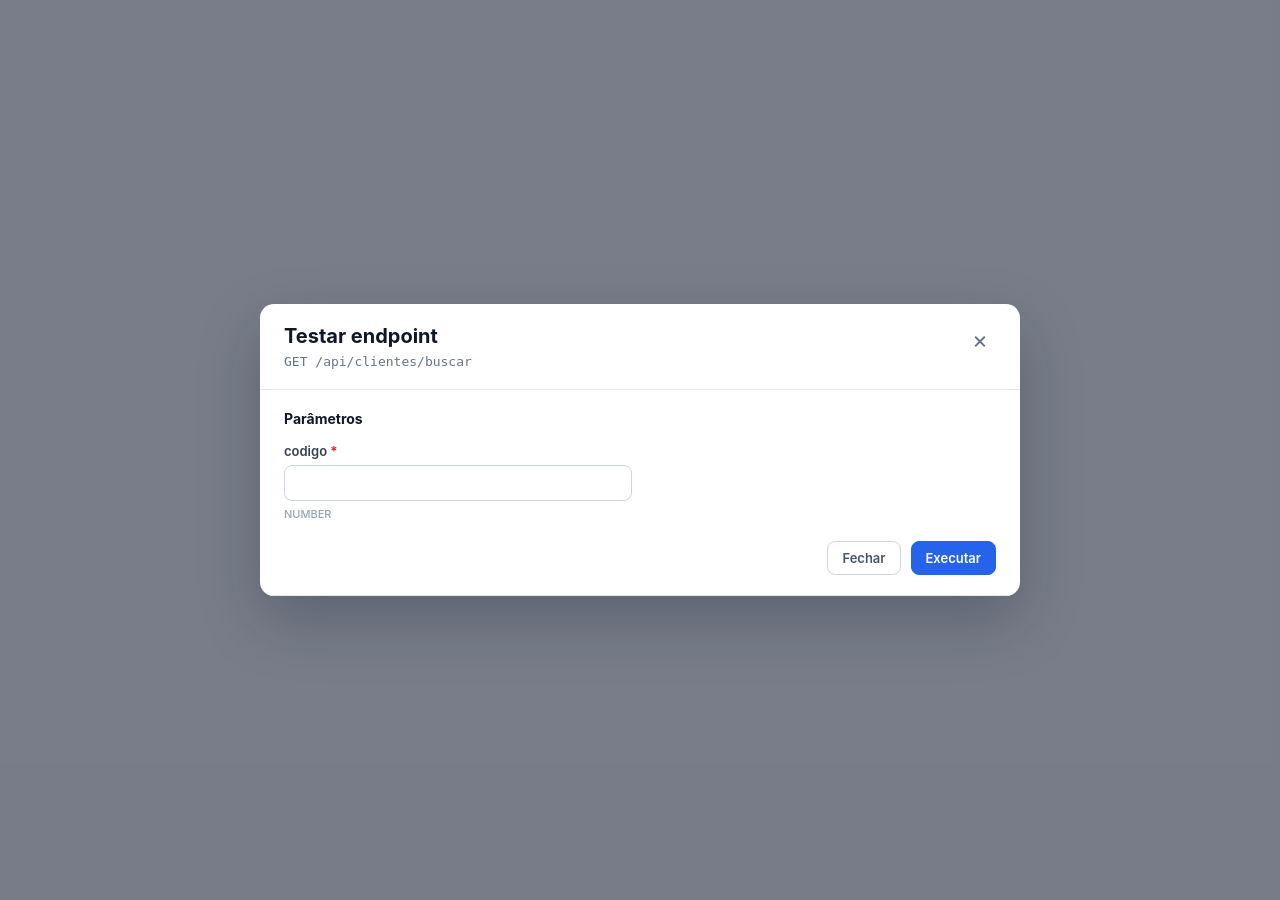
Test: EndpointTestModal › executa o endpoint com os parâmetros informados e mostra o resultado
In the field labelled "codigo * NUMBER": (458, 483) top-left (284, 465), bottom-right (632, 501), type "10"
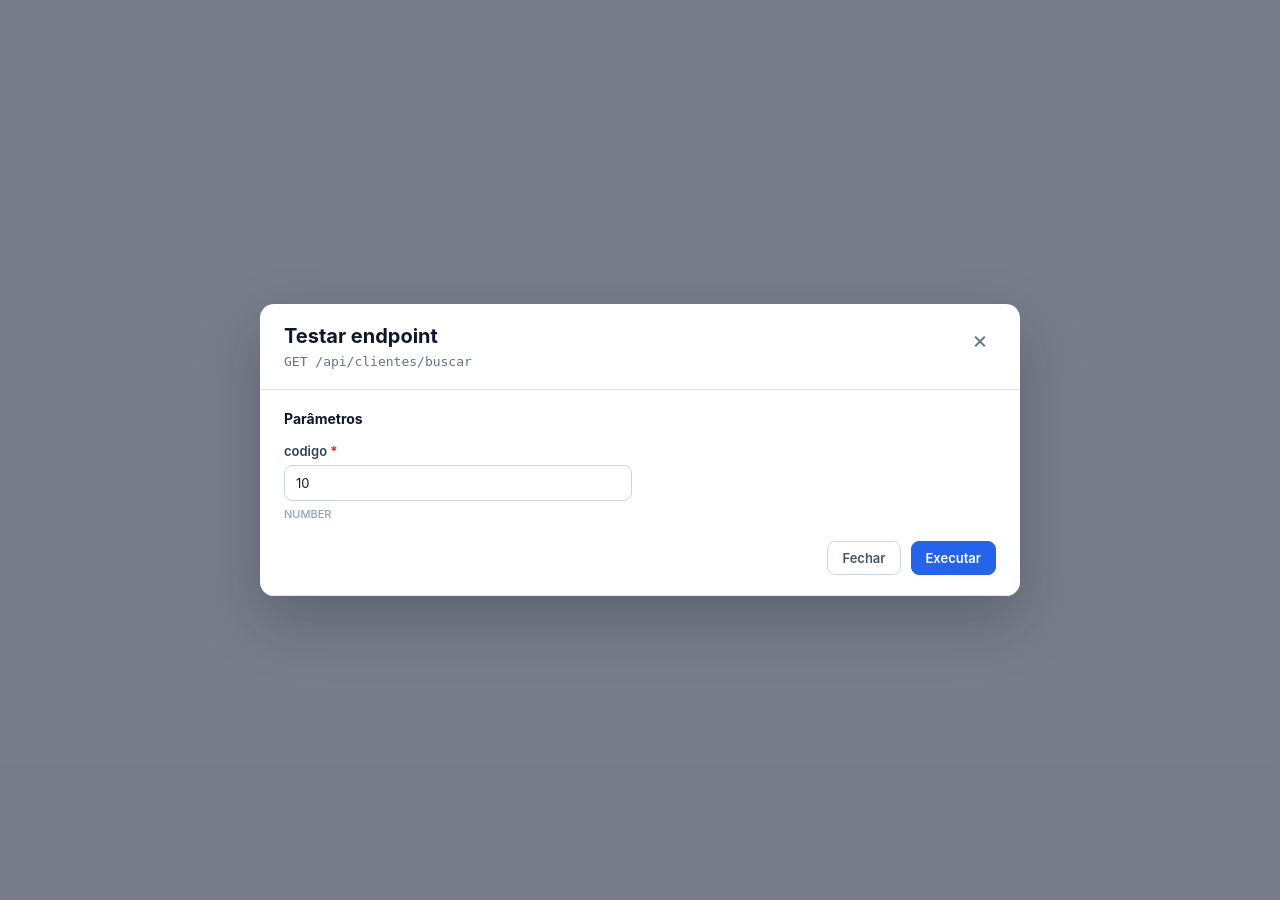
Click the button "Executar": (953, 558) top-left (910, 541), bottom-right (996, 575)
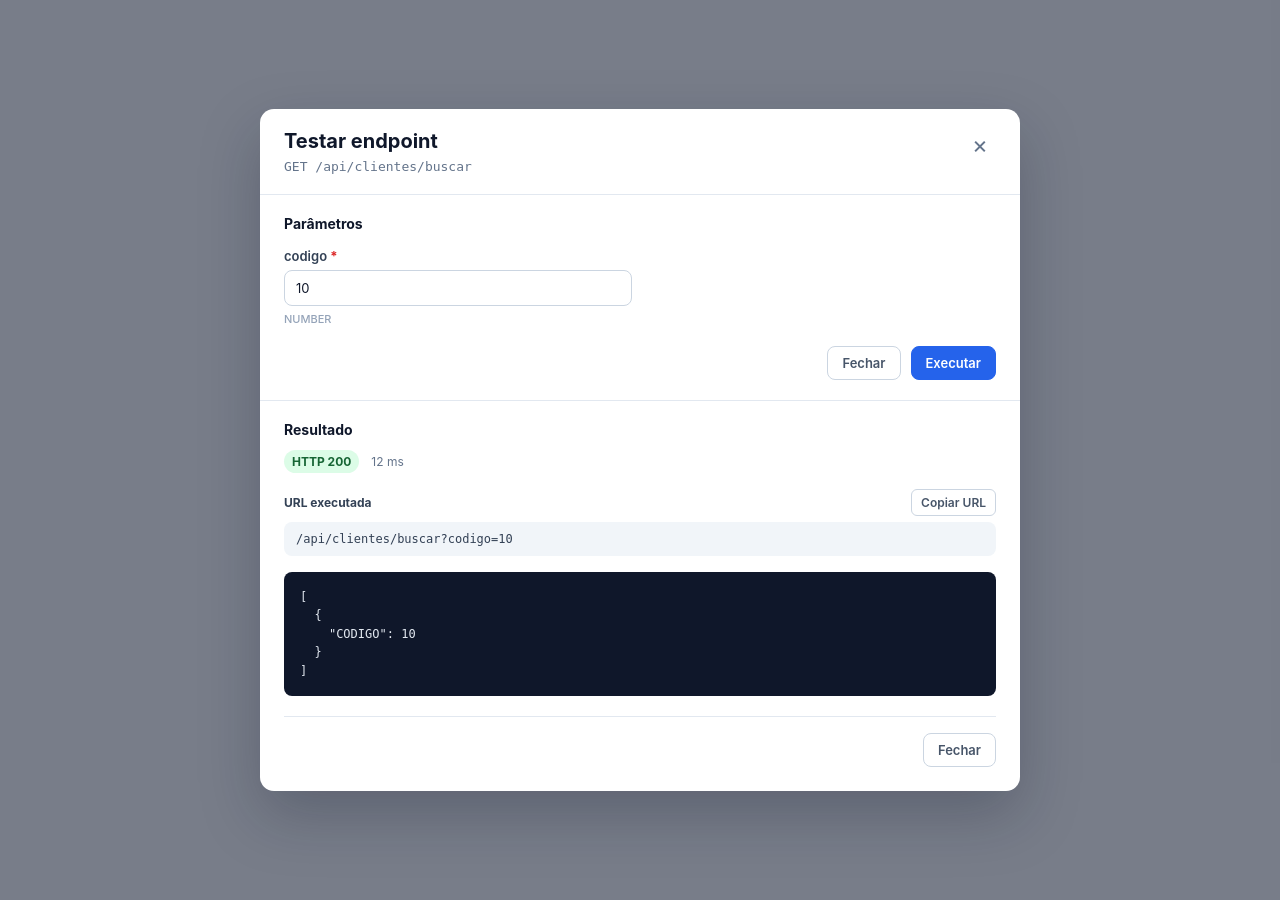
Now the text "HTTP 200" is shown, box top-left (284, 450), bottom-right (359, 472)
Now the text "12 ms" is shown, box top-left (371, 454), bottom-right (404, 468)
Now the text "[ { \"CODIGO\": 10 } ]" is shown, box top-left (284, 572), bottom-right (996, 696)
